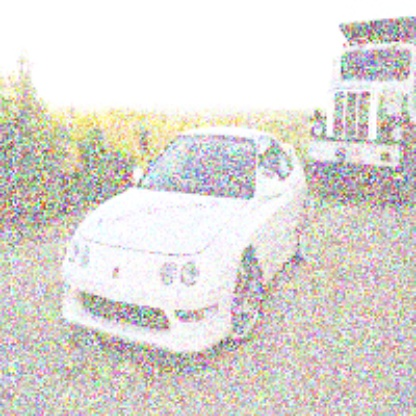Vehicle: (59, 125, 310, 356)
